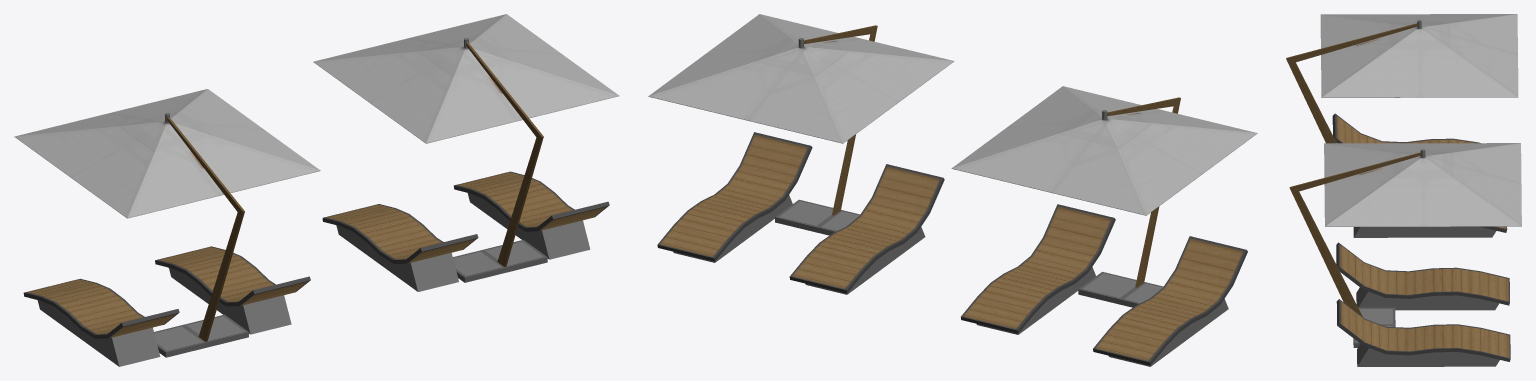
The model's file is лежак.glb.
3 renders of one model, left to right at view 1: azimuth 30°, elevation 25°; view 2: azimuth 150°, elevation 25°; view 3: azimuth 270°, elevation 25°, orthographic. The views are drawn at different scales.
Parts seen in each view (by area): view 1: Object012; view 2: Object012; view 3: Object012.
Boxes of the visible parts, left/top/right/bottom form: Object012: left=14, top=14, right=619, bottom=366; Object012: left=648, top=14, right=1257, bottom=366; Object012: left=1286, top=14, right=1521, bottom=366.
Size of the model in its own units: 7.15 by 2.82 by 3.35.
Materials: 1 (1 with a texture image).
